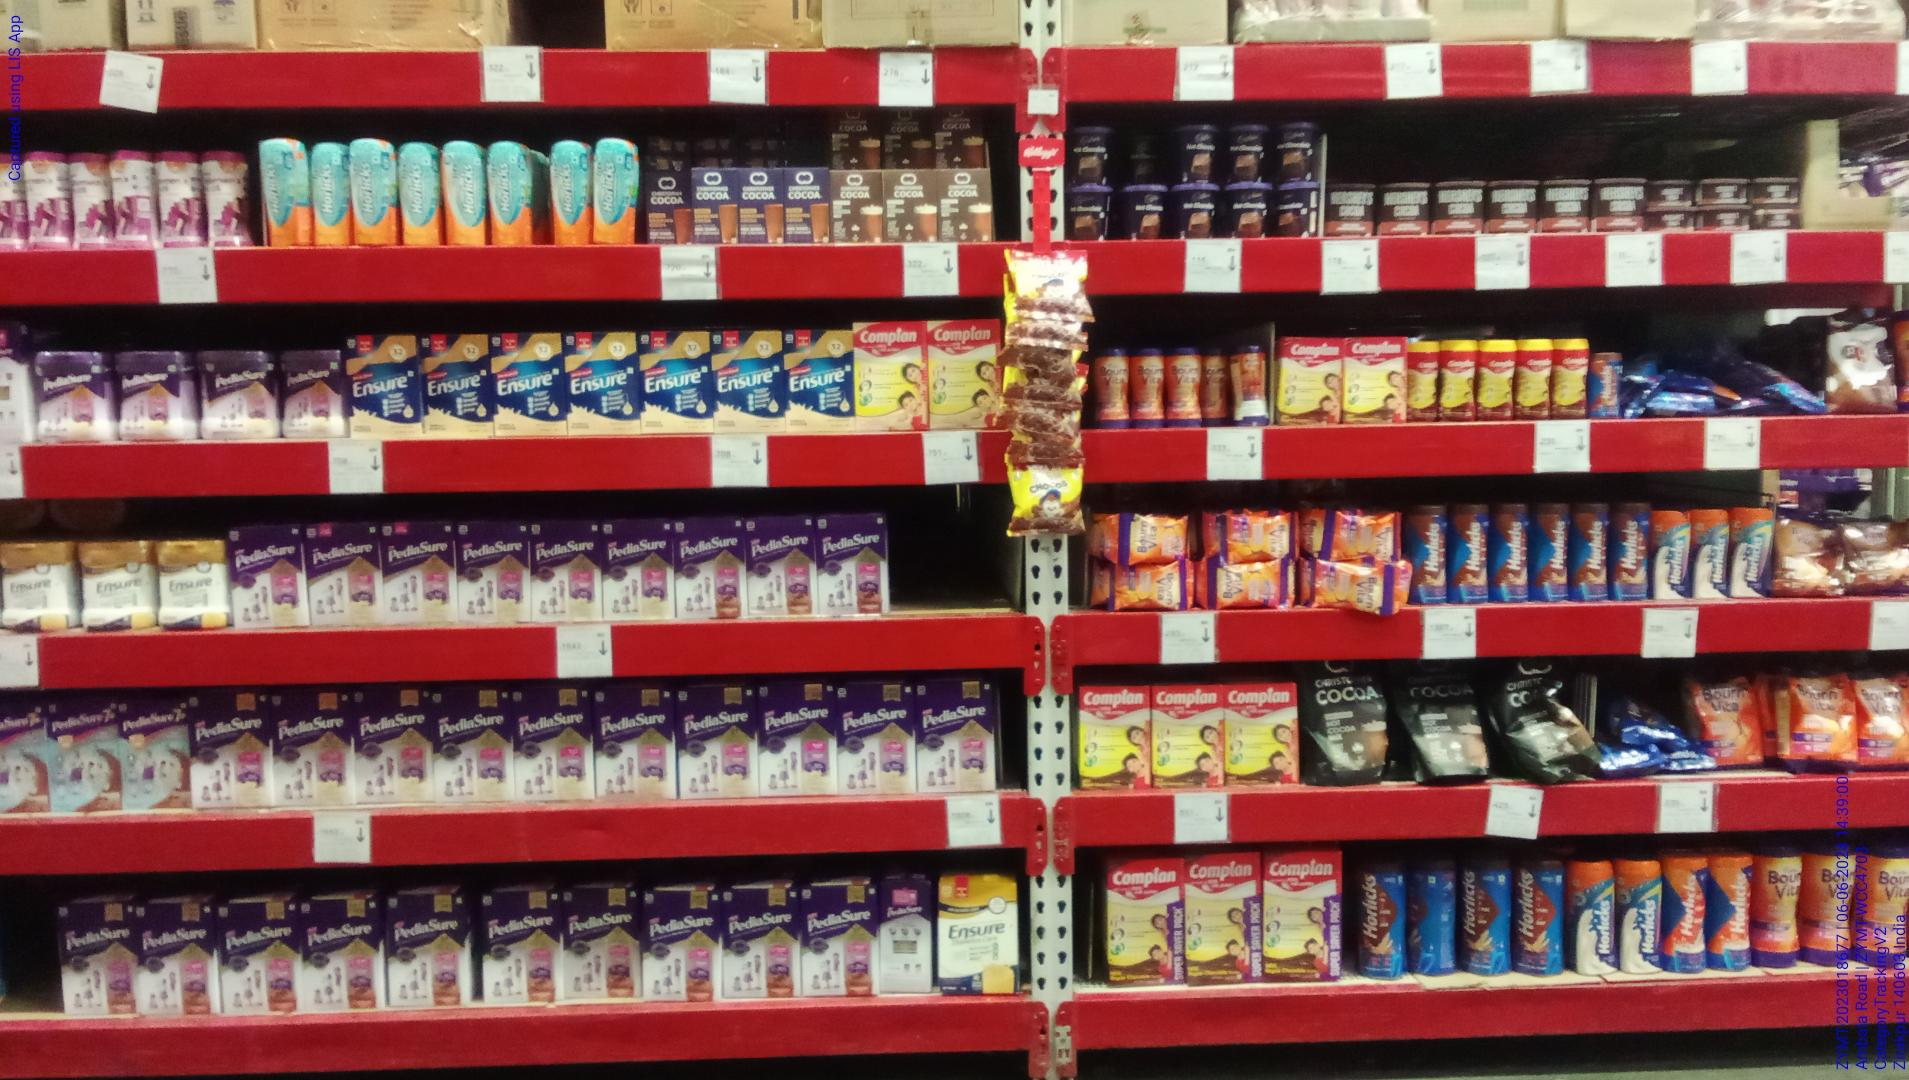COMPLAN_CHOCOLATE_1_KG_PACK: (1263, 849, 1341, 982), (1185, 849, 1260, 983), (1105, 858, 1180, 986)
COMPLAN_CHOCOLATE_200_GMS_PACK: (1280, 336, 1343, 427), (1345, 337, 1407, 425)
COMPLAN_CHOCOLATE_500_GMS_PACK: (1152, 684, 1223, 789), (1079, 684, 1149, 789), (1227, 683, 1297, 786)
COMPLAN_KESAR_BADAM_500_GMS_PACK: (930, 320, 1004, 427), (855, 320, 924, 433)
HORLICK_CHOCOLATE_200_G_JAR: (1611, 501, 1649, 603), (1529, 502, 1567, 602), (1449, 502, 1486, 603), (1406, 502, 1442, 602), (1573, 503, 1609, 602), (1492, 503, 1526, 602)
HORLICK_CHOCOLATE_500_G_JAR: (1462, 860, 1514, 976), (1358, 862, 1407, 976), (1520, 862, 1563, 976)
HORLICK_CLASSIC_MALT_200_G_JAR: (1568, 856, 1615, 975), (1619, 858, 1664, 973)
